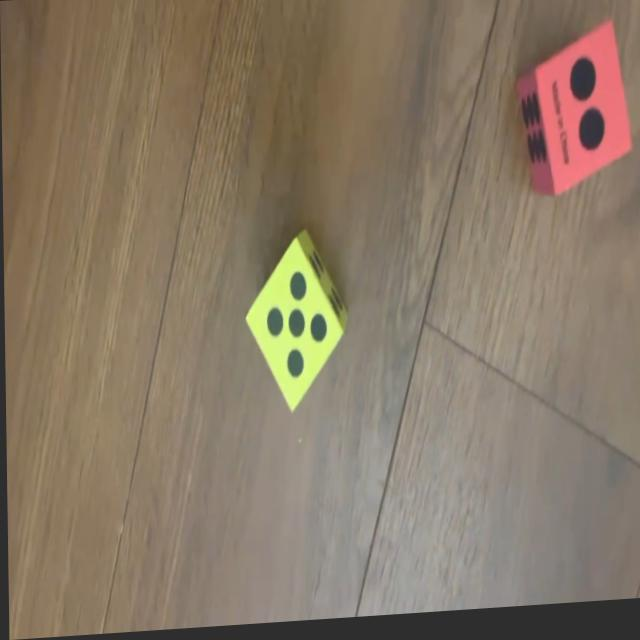red_block: (514, 28, 630, 204)
